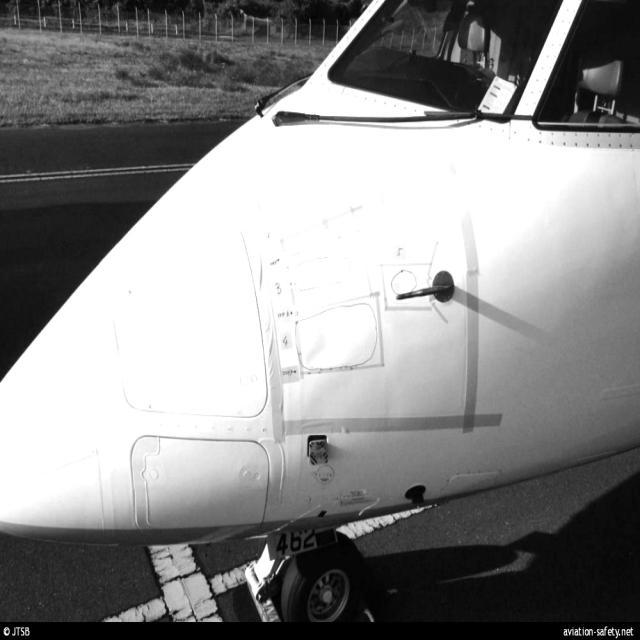dent: (306, 308, 368, 366)
